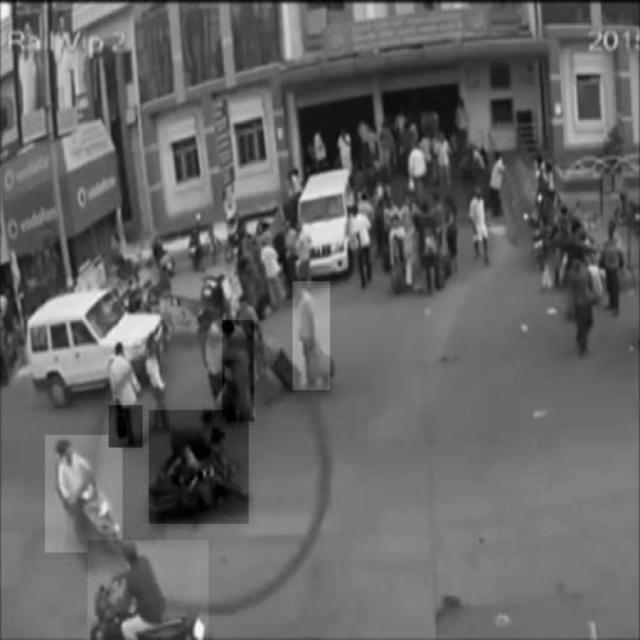person: (292, 282, 330, 390), (109, 340, 143, 448), (223, 320, 253, 421), (566, 245, 593, 356)
vehicle: (28, 288, 164, 406), (88, 540, 209, 640), (149, 411, 249, 524), (46, 435, 123, 553), (298, 166, 355, 274)
